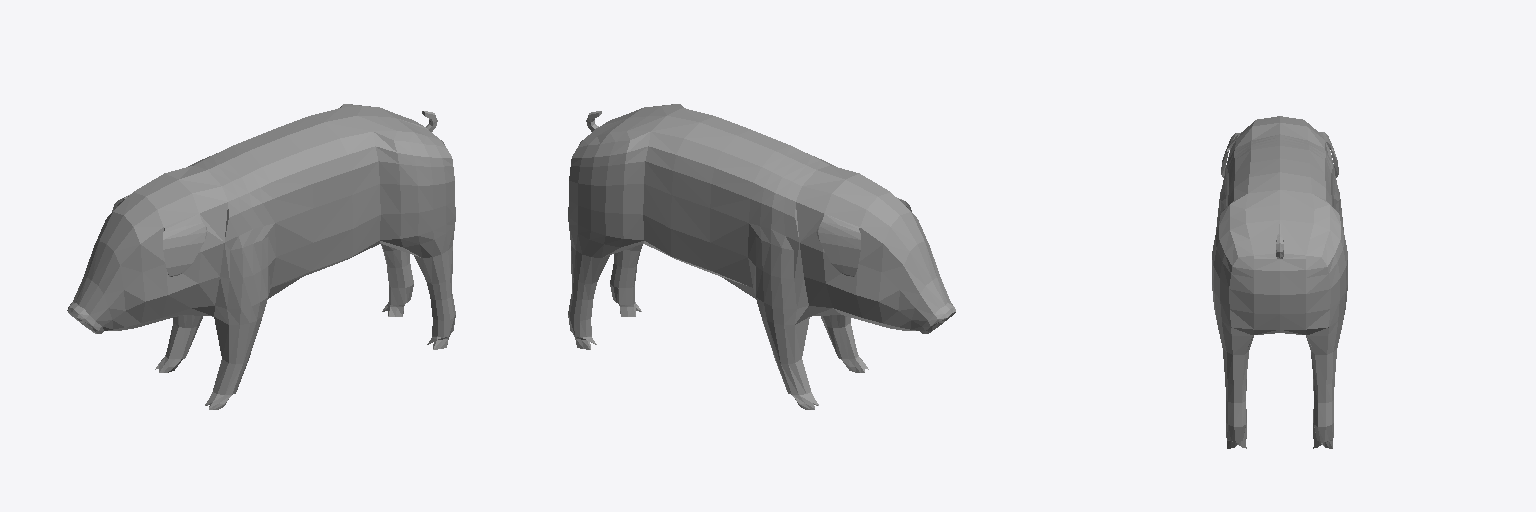
The model's file is pig.obj.
3 renders of one model, left to right at view 1: azimuth 30°, elevation 25°; view 2: azimuth 150°, elevation 25°; view 3: azimuth 270°, elevation 25°, orthographic.
Visible parts, largest first — view 1: Cube_Cube.001; view 2: Cube_Cube.001; view 3: Cube_Cube.001.
Part boxes in pixels (x1,y1,x2,y2): Cube_Cube.001: (67, 104, 455, 409); Cube_Cube.001: (568, 104, 955, 409); Cube_Cube.001: (1212, 116, 1347, 448).
Size of the model in its own units: 6.23 by 3.78 by 2.